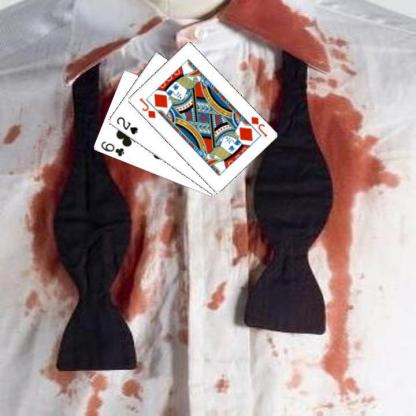2S: (113, 114, 138, 136)
6C: (98, 139, 126, 158)
JD: (136, 95, 157, 120), (248, 114, 269, 138)
